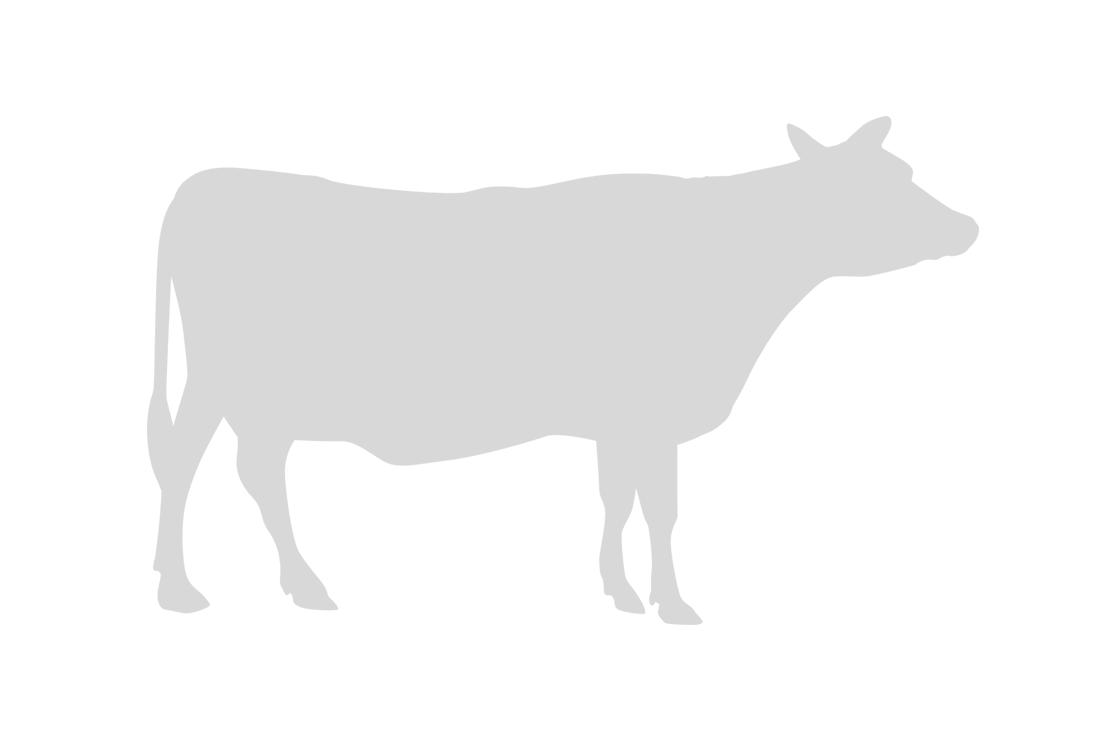cow: (145, 116, 978, 606)
